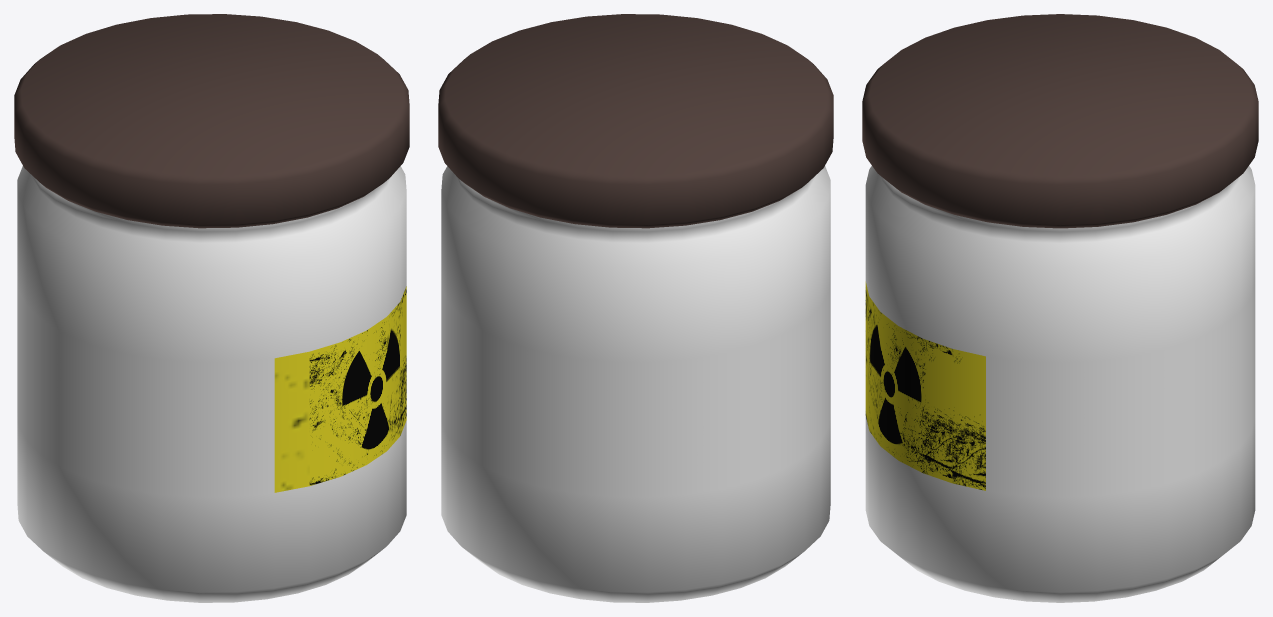
Rendered from скетчфаб.fbx.
3 renders of one model, left to right at view 1: azimuth 30°, elevation 25°; view 2: azimuth 150°, elevation 25°; view 3: azimuth 270°, elevation 25°, orthographic.
Visible parts, largest first — view 1: Cylinder, Cylinder.002; view 2: Cylinder, Cylinder.002; view 3: Cylinder, Cylinder.002.
Part boxes in pixels (left/top/right/bottom): Cylinder: left=17, top=166, right=406, bottom=602; Cylinder.002: left=14, top=14, right=409, bottom=228; Cylinder: left=441, top=166, right=830, bottom=602; Cylinder.002: left=438, top=14, right=833, bottom=228; Cylinder: left=865, top=166, right=1255, bottom=602; Cylinder.002: left=862, top=14, right=1258, bottom=228.
Size of the model in its own units: 203 by 246 by 203.
Materials: 4 (1 with a texture image).
